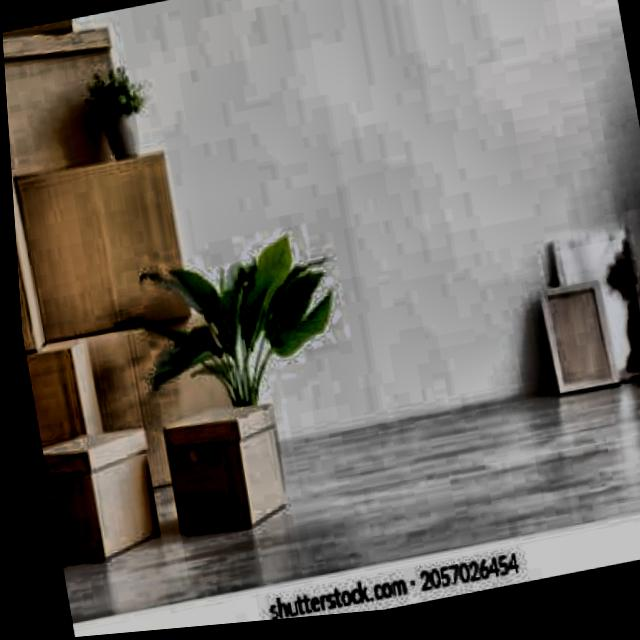Cardbox: (23, 313, 257, 566), (7, 130, 208, 376), (33, 418, 189, 574), (1, 11, 135, 189)
